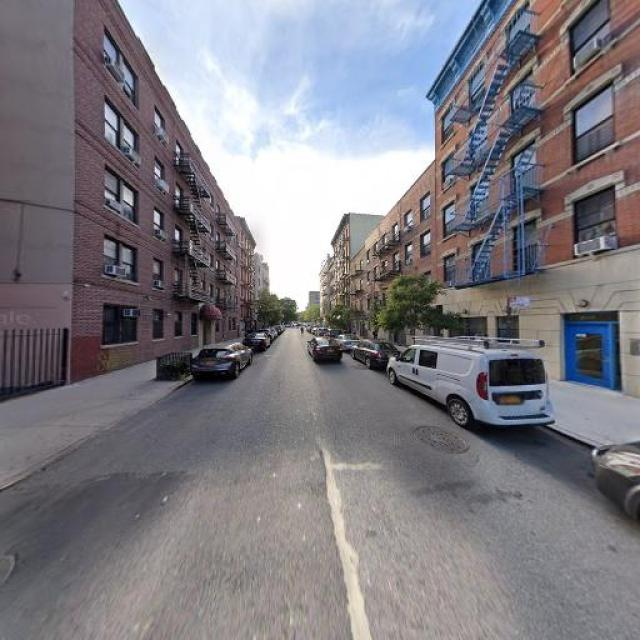Building: (439, 1, 640, 395), (82, 1, 217, 372), (367, 170, 435, 349)
